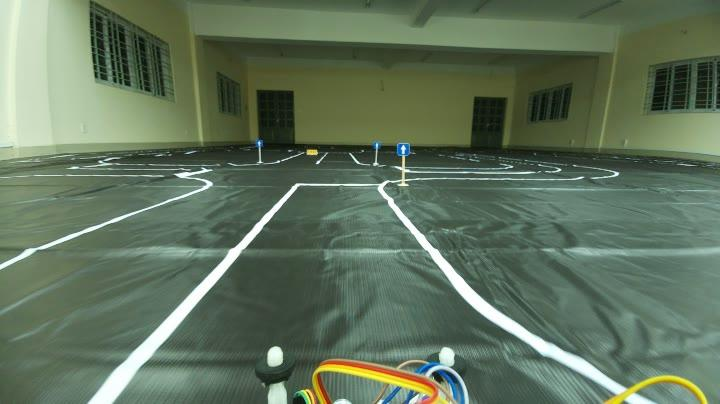onewayroad: (396, 139, 410, 155), (252, 138, 266, 149), (372, 140, 382, 150)
roadblock: (305, 145, 322, 158)
